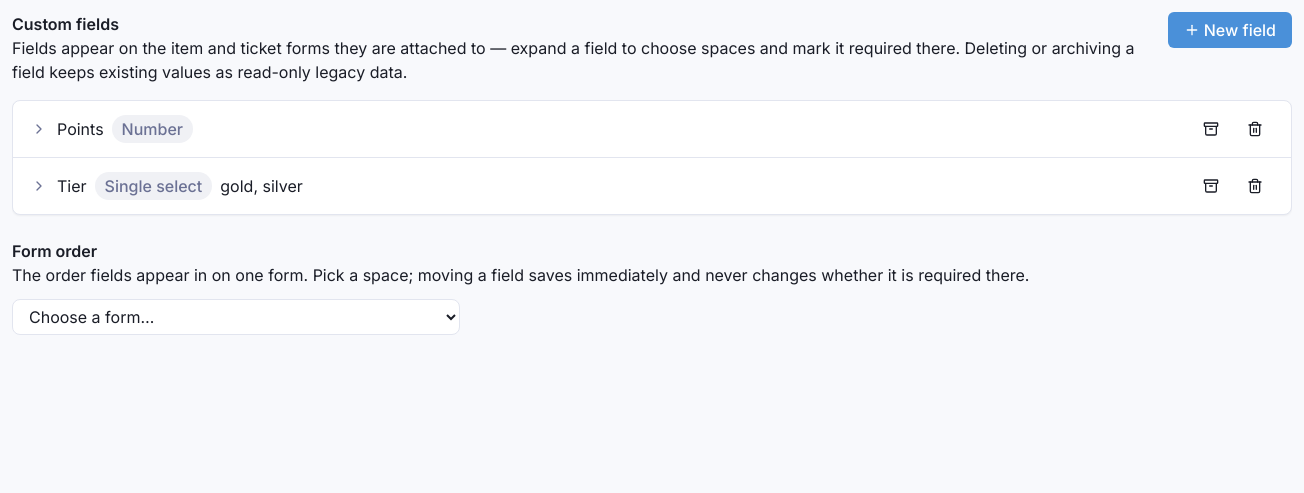
Test case: CustomFieldsAdminPage › expands a field into its attachments with the required flag per scope
The width and height of the screenshot is (1304, 493).
Click the button named "Attachments for Points" at {"x": 39, "y": 129}, box [29, 119, 49, 139]
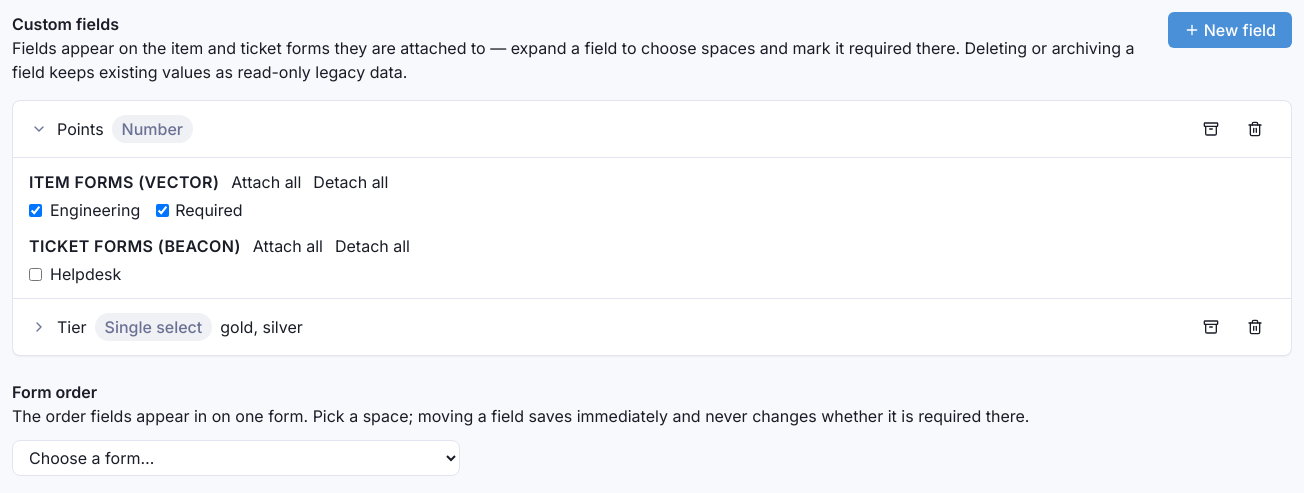
Result: the element with test id "field-scopes-panel" is shown at [29, 170, 410, 284]
Result: the checkbox with test id "scope-attach-s-vec-project_item" is checked at [29, 204, 42, 216]
Result: the checkbox with test id "scope-required-s-vec-project_item" is checked at [156, 204, 169, 216]
